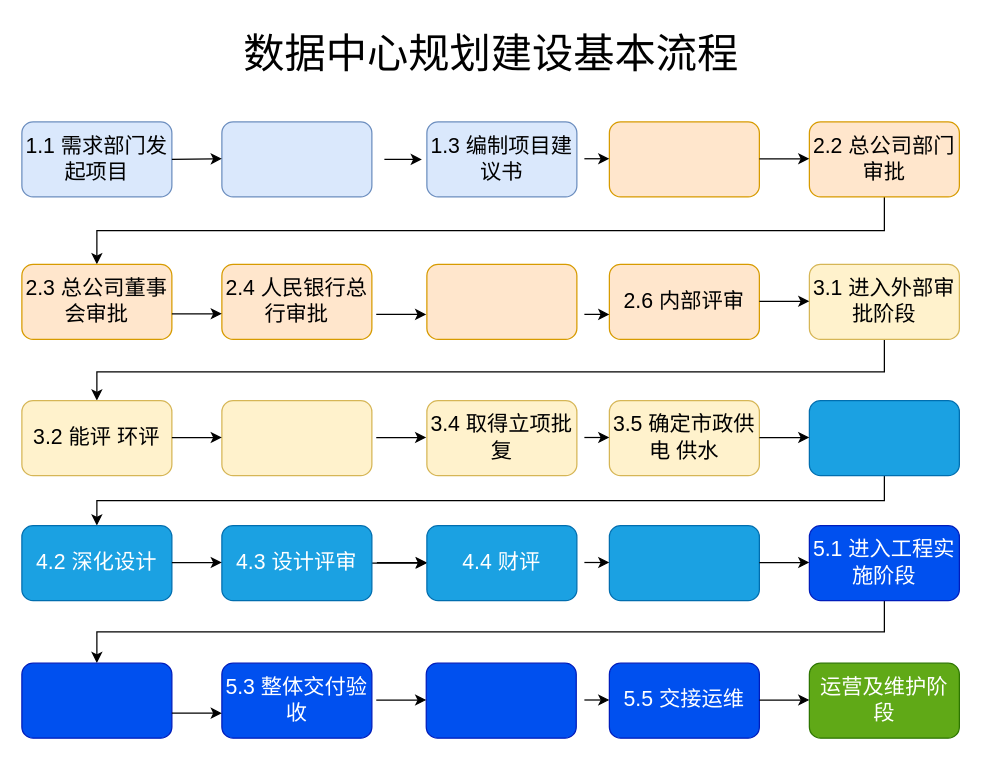
This 981x760 diagram has some shape labels left out. Here are the shapes that lost their labels. From the top down, the centre of each, then its label:
At point (296, 159): "1.2 数据中心咨询服务招标".
At point (683, 159): "2.1 进入内部审批阶段".
At point (501, 301): "2.5 编制可行性方案和初步设计".
At point (296, 437): "3.3 报发改审批立项".
At point (883, 437): "4.1 EPC招标 监理招标".
At point (683, 562): "4.5 取得施工许可证".
At point (96, 700): "5.2 单机试运转 联调联试 假负载试运转".
At point (500, 700): "5.4 第三方测试".
